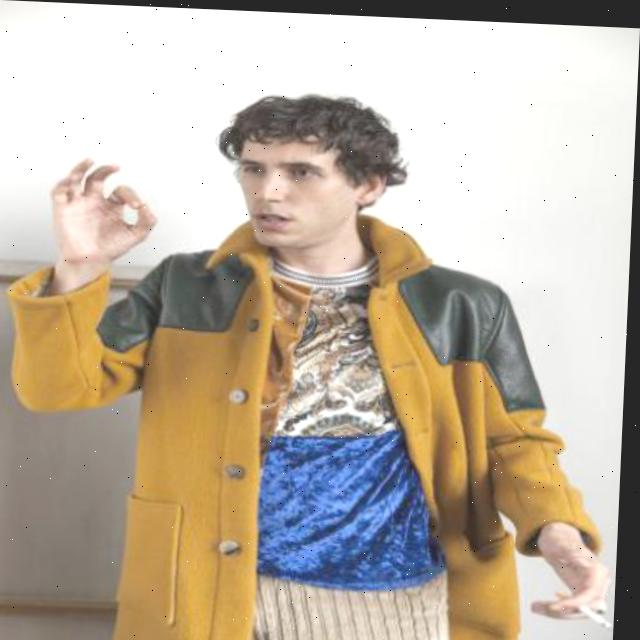cigarette: (568, 587, 619, 626)
